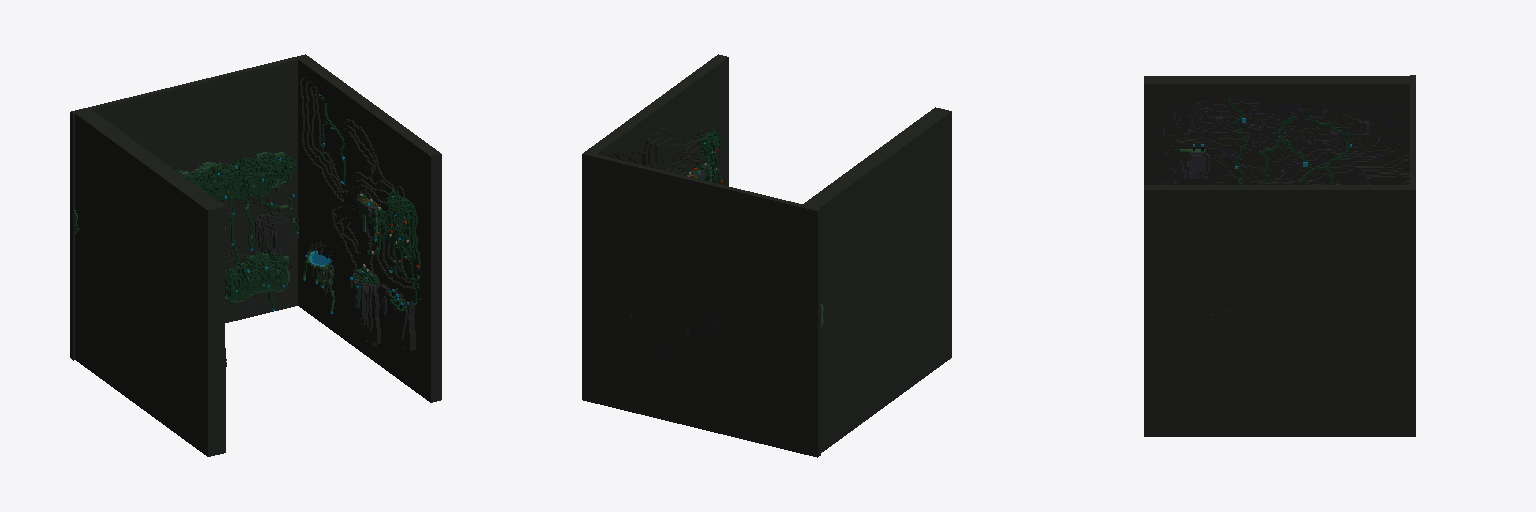
3 renders of one model, left to right at view 1: azimuth 30°, elevation 25°; view 2: azimuth 150°, elevation 25°; view 3: azimuth 270°, elevation 25°, orthographic.
Parts seen in each view (by area): view 1: object 1; view 2: object 1; view 3: object 1.
Part boxes in pixels (left/top/right/bottom): object 1: left=70, top=54, right=441, bottom=456; object 1: left=582, top=54, right=951, bottom=457; object 1: left=1144, top=75, right=1415, bottom=436.
Size of the model in its own units: 12.8 by 12.8 by 12.8.
Materials: 1 (1 with a texture image).